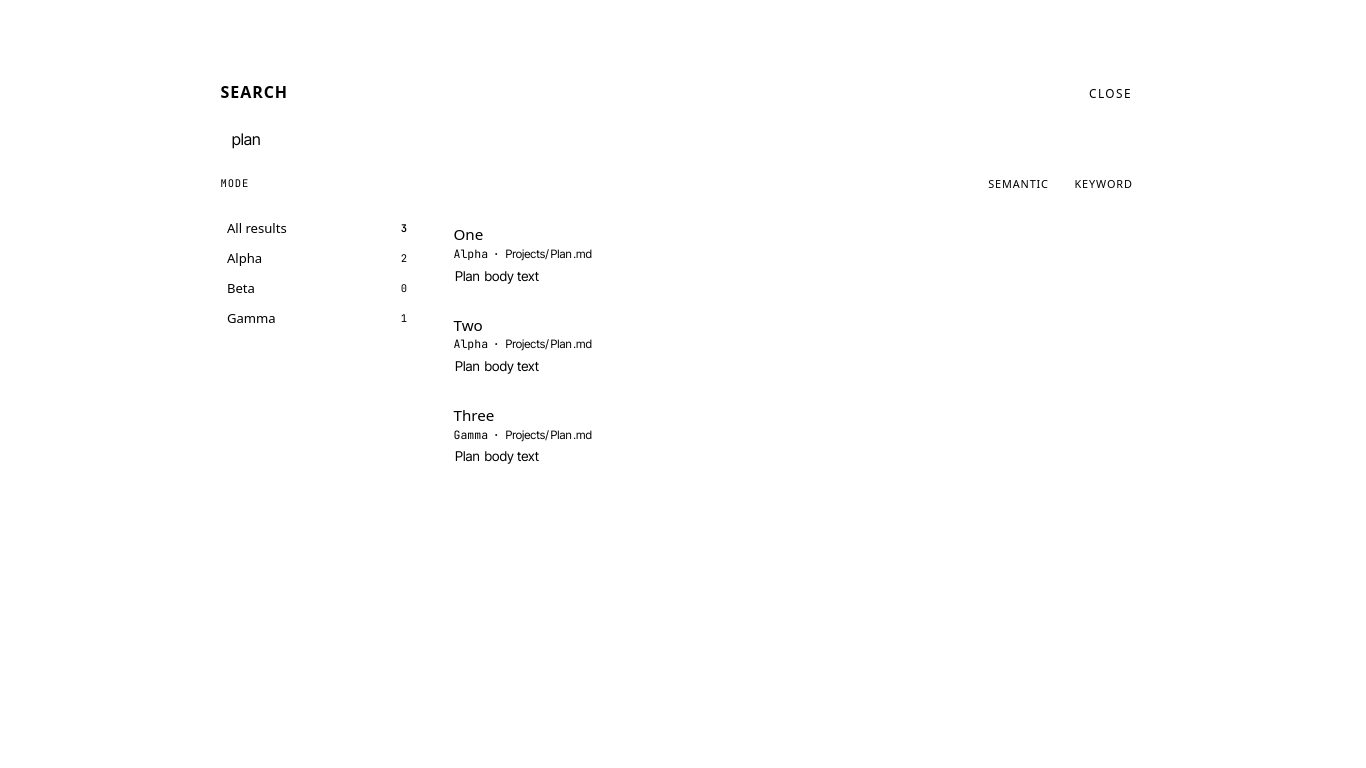
Test: SearchDialog's own Vault filter — never the browsing scope (#144) › filters the visible results without changing their order or re-fetching
Click the button "Alpha 2" at (317, 258), box 220,244 -> 414,272
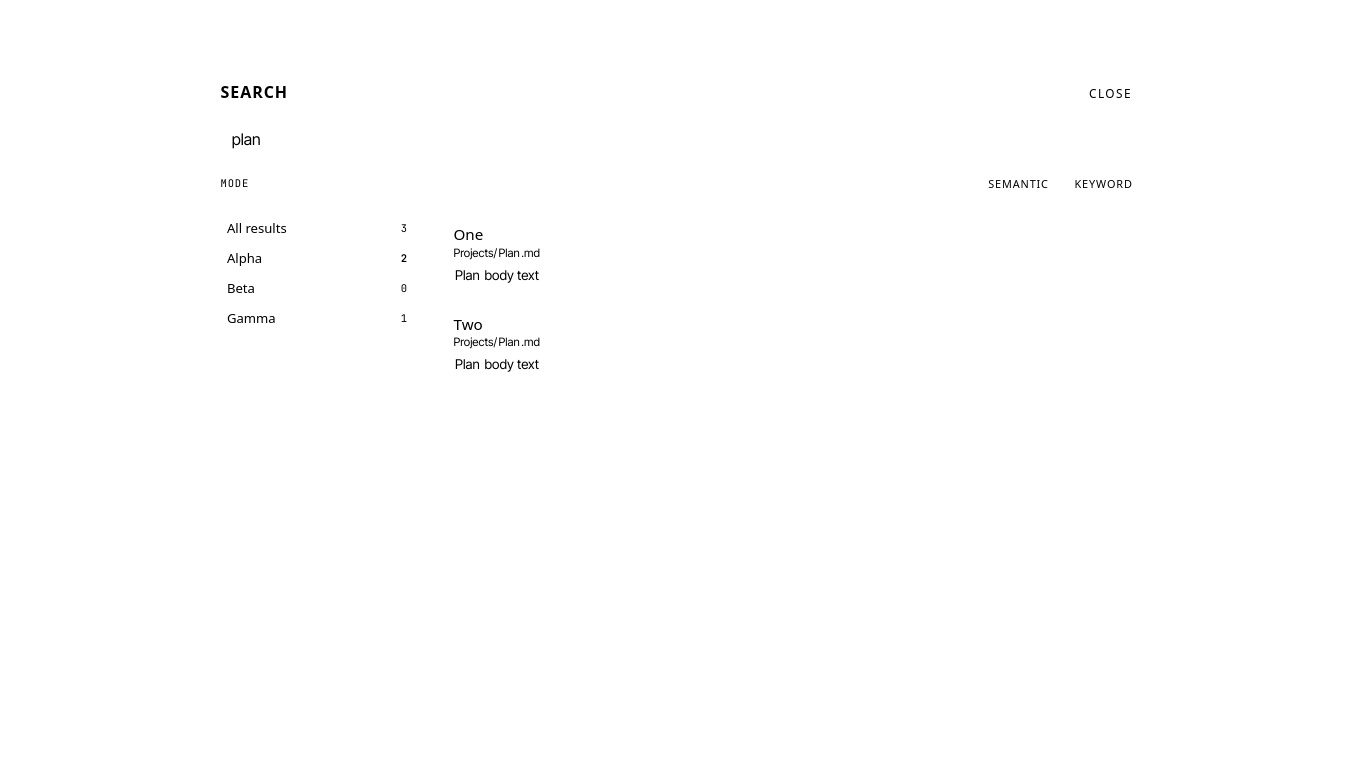
Expected: the text "One" is shown, 454,224 -> 483,244
Expected: the button "Three" is gone
